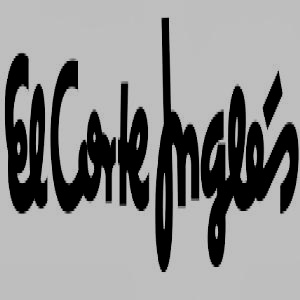corte_ingles: (296, 11, 298, 32)
